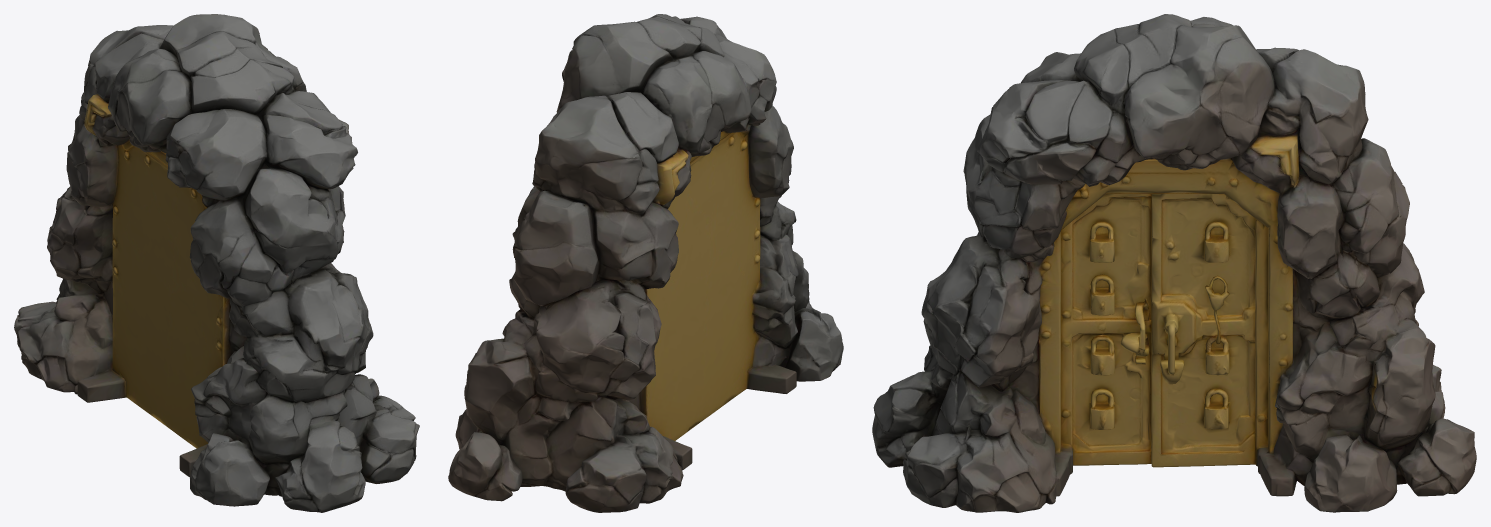
The model's file is golden+door+3d+model.glb.
The picture shows the model from 3 angles, left to right: view 1: azimuth 30°, elevation 25°; view 2: azimuth 150°, elevation 25°; view 3: azimuth 270°, elevation 25°; orthographic projection. The views are drawn at different scales.
Parts seen in each view (by area): view 1: tripo_node_c512e93c-1a8b-4a4a-a868-2b0800130b78; view 2: tripo_node_c512e93c-1a8b-4a4a-a868-2b0800130b78; view 3: tripo_node_c512e93c-1a8b-4a4a-a868-2b0800130b78.
Boxes of the visible parts, <box> form: tripo_node_c512e93c-1a8b-4a4a-a868-2b0800130b78: <box>14,14,419,512</box>; tripo_node_c512e93c-1a8b-4a4a-a868-2b0800130b78: <box>448,14,843,512</box>; tripo_node_c512e93c-1a8b-4a4a-a868-2b0800130b78: <box>872,14,1476,512</box>.
Bounding box in the file's own units: 0.4734 × 0.7964 × 1.
Materials: 1 (1 with a texture image).
